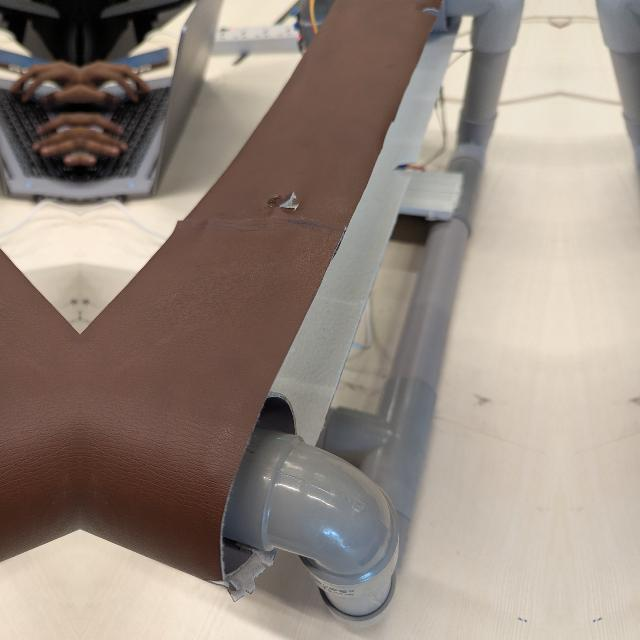joint_damage: (253, 187, 311, 231)
